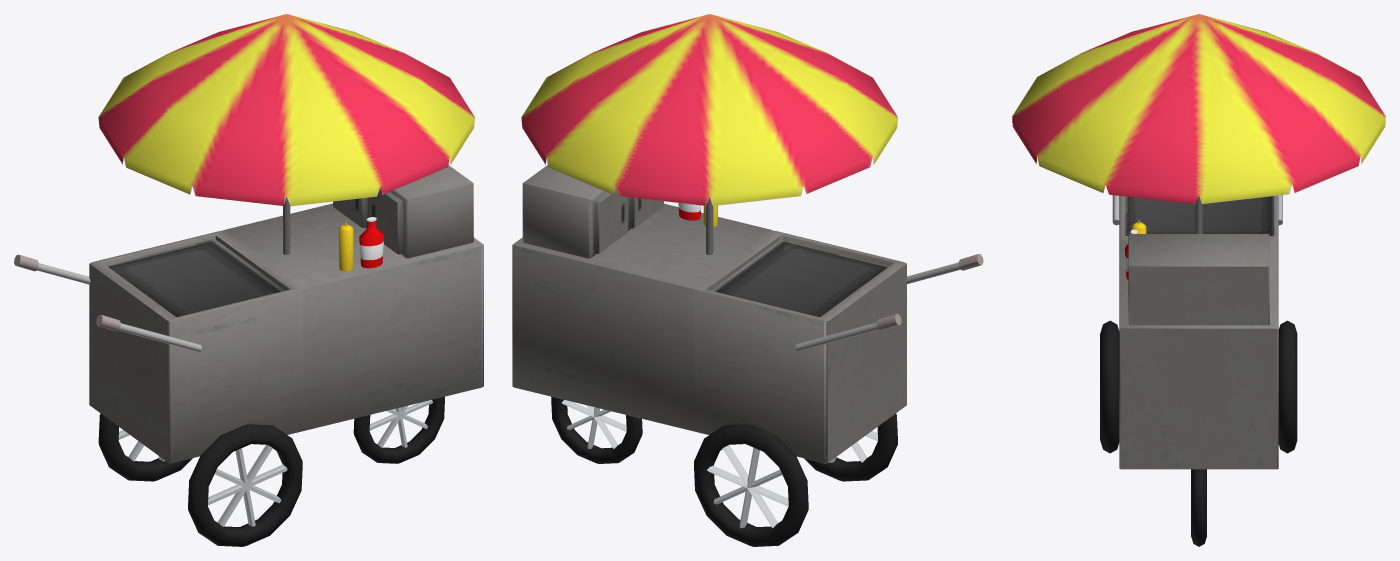
Rendered from hotdogCart.glb.
3 views of the same model, side by side, from view 1: azimuth 30°, elevation 25°; view 2: azimuth 150°, elevation 25°; view 3: azimuth 270°, elevation 25° (orthographic).
Parts seen in each view (by area): view 1: main.002_Material.002_0; view 2: main.002_Material.002_0; view 3: main.002_Material.002_0.
Boxes of the visible parts, <box> form: main.002_Material.002_0: <box>14,14,483,546</box>; main.002_Material.002_0: <box>512,14,983,546</box>; main.002_Material.002_0: <box>1012,14,1385,546</box>.
Size of the model in its own units: 4.04 by 4.69 by 3.34.
1 material, 1 textured.
